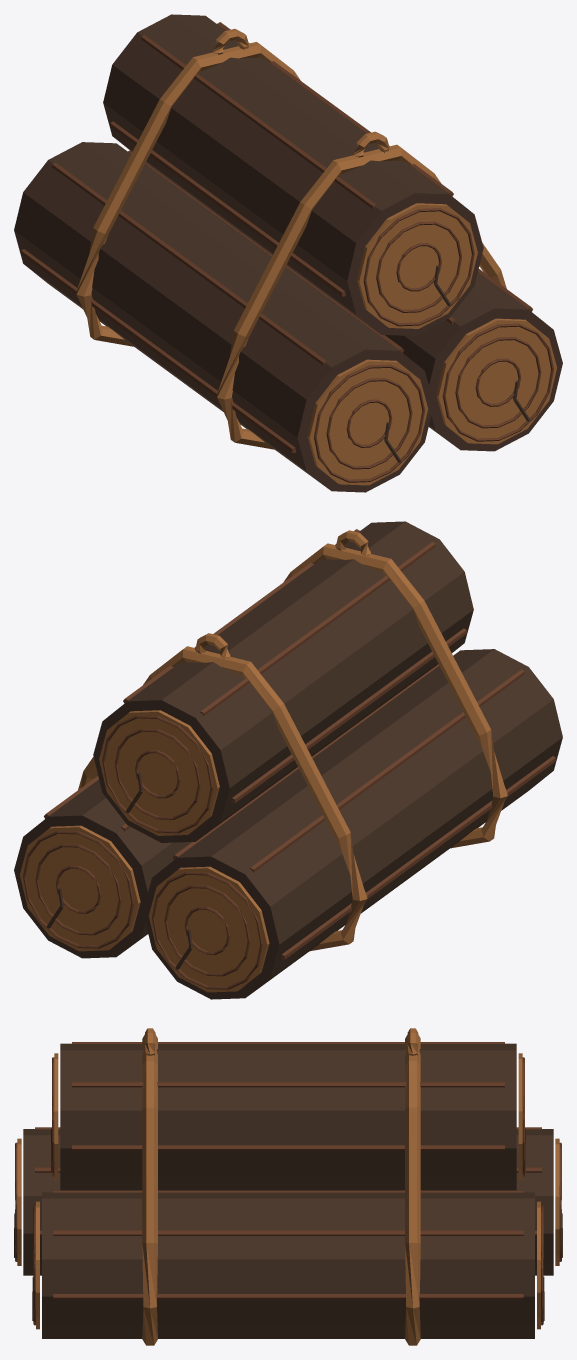
The model's file is Timber_Pile.gltf.
3 renders of one model, top to bottom at view 1: azimuth 30°, elevation 25°; view 2: azimuth 150°, elevation 25°; view 3: azimuth 270°, elevation 25°, orthographic. The views are drawn at different scales.
Visible parts, largest first — view 1: Bark_Log_0, Bark_Log_36, Cut_Endgrain_1, Cut_Endgrain_19, Cut_Endgrain_37, Bark_Log_18, Bundle_Rope_54, Bundle_Rope_56, Bark_Ridge_16, Bark_Ridge_15, Bark_Ridge_52, Bark_Ridge_51 (+8 smaller); view 2: Bark_Log_0, Bark_Log_36, Cut_Endgrain_7, Cut_Endgrain_25, Cut_Endgrain_43, Bark_Log_18, Bundle_Rope_56, Bundle_Rope_54, Bark_Ridge_16, Bark_Ridge_15, Bark_Ridge_52, Bark_Ridge_51 (+8 smaller); view 3: Bark_Log_18, Bark_Log_36, Bark_Log_0, Bundle_Rope_54, Bundle_Rope_56, Bark_Ridge_50, Bark_Ridge_31, Bark_Ridge_32, Bark_Ridge_49, Bark_Ridge_33, Bark_Ridge_51, Cut_Endgrain_1 (+5 smaller).
Boxes of the visible parts, <box> form: Bark_Log_0: <box>14,142,433,492</box>; Bark_Log_36: <box>103,14,483,335</box>; Cut_Endgrain_1: <box>307,359,428,485</box>; Cut_Endgrain_19: <box>436,318,556,444</box>; Cut_Endgrain_37: <box>357,203,477,328</box>; Bark_Log_18: <box>385,273,562,451</box>; Bundle_Rope_54: <box>217,144,506,449</box>; Bundle_Rope_56: <box>76,42,300,346</box>; Bark_Ridge_16: <box>21,249,296,452</box>; Bark_Ridge_15: <box>52,162,326,365</box>; Bark_Ridge_52: <box>110,121,345,296</box>; Bark_Ridge_51: <box>141,35,376,208</box>; Bark_Log_0: <box>143,649,562,999</box>; Bark_Log_36: <box>93,521,473,842</box>; Cut_Endgrain_7: <box>148,866,269,992</box>; Cut_Endgrain_25: <box>20,825,140,951</box>; Cut_Endgrain_43: <box>99,710,219,835</box>; Bark_Log_18: <box>14,780,191,958</box>; Bundle_Rope_56: <box>78,646,367,951</box>; Bundle_Rope_54: <box>283,543,507,848</box>; Bark_Ridge_16: <box>280,756,555,959</box>; Bark_Ridge_15: <box>250,669,524,872</box>; Bark_Ridge_52: <box>231,628,466,803</box>; Bark_Ridge_51: <box>200,542,435,715</box>; Bark_Log_18: <box>42,1192,534,1338</box>; Bark_Log_36: <box>60,1043,516,1190</box>; Bark_Log_0: <box>23,1129,553,1275</box>; Bundle_Rope_54: <box>142,1034,157,1345</box>; Bundle_Rope_56: <box>405,1035,420,1345</box>; Bark_Ridge_50: <box>72,1081,504,1087</box>; Bark_Ridge_31: <box>53,1294,523,1299</box>; Bark_Ridge_32: <box>53,1230,523,1235</box>; Bark_Ridge_49: <box>72,1145,504,1150</box>; Bark_Ridge_33: <box>53,1190,523,1192</box>; Bark_Ridge_51: <box>72,1042,504,1043</box>; Cut_Endgrain_1: <box>17,1138,21,1265</box>.
Bounding box in the file's own units: 1.41 × 1.33 × 2.38.
